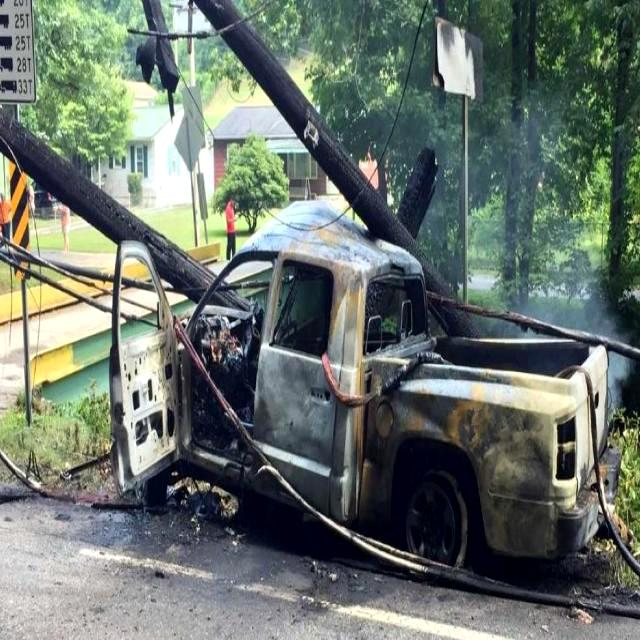Broken Pole: (190, 0, 469, 332), (0, 110, 210, 302)
